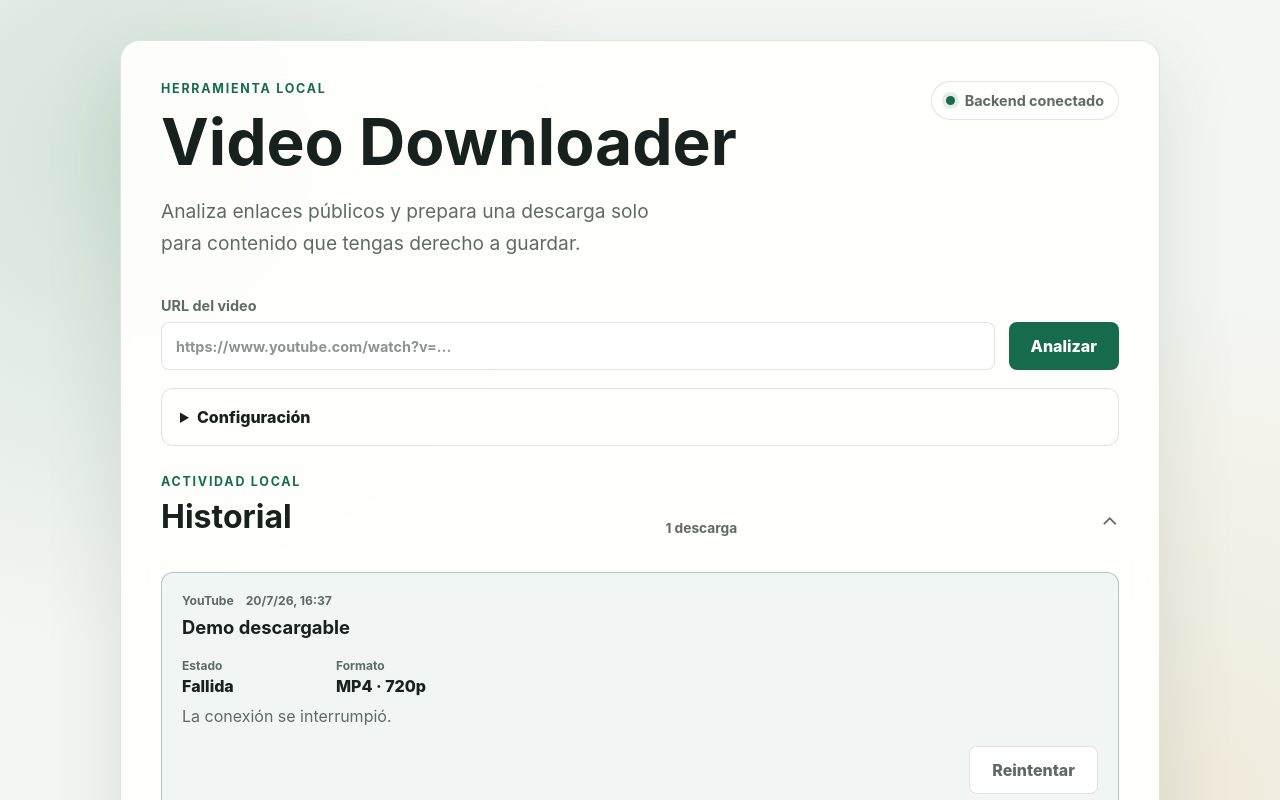
Scenario: App › retries a failed download in the same history entry
The image size is (1280, 800).
Step 1. Click the button "Reintentar" → coordinates (1034, 770), box [969,746,1098,794]
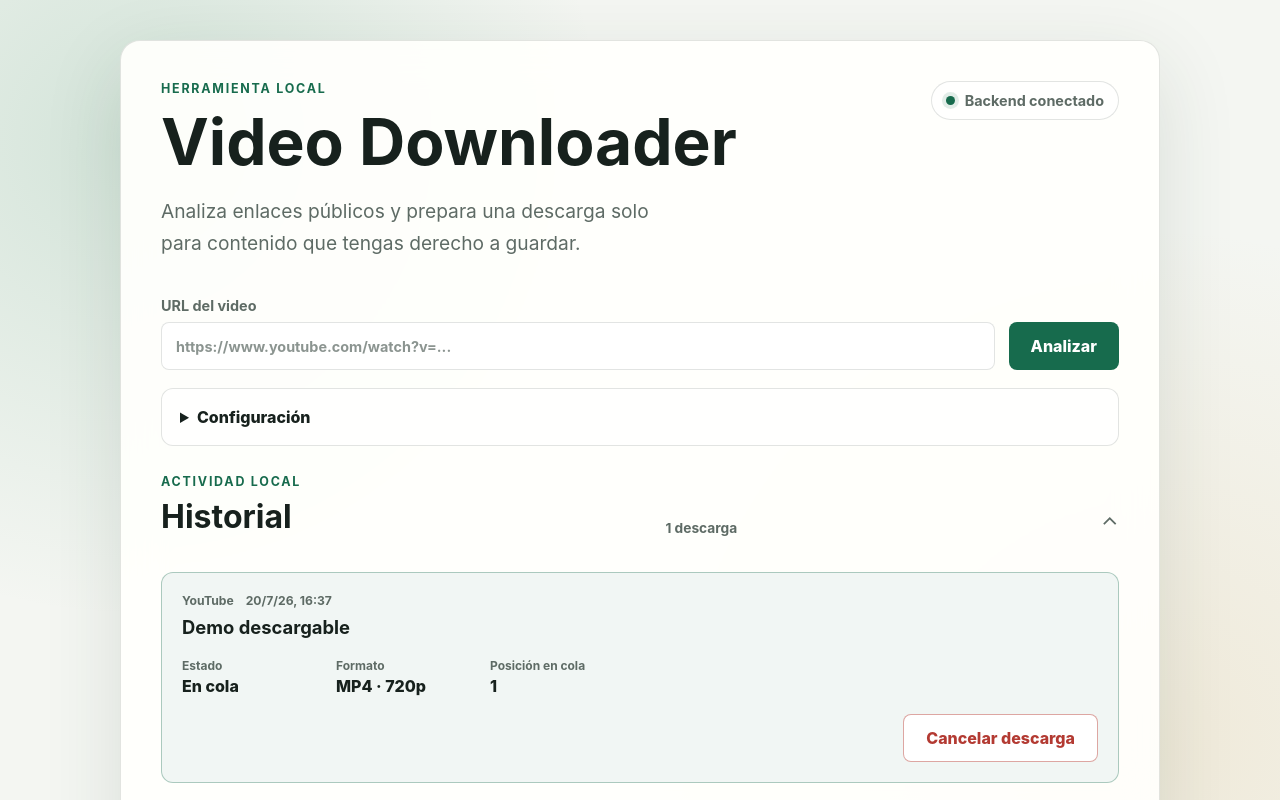
Now the text "En cola" is shown, box [182,676,239,696]
Now the button "Reintentar" is gone
Now the button "Cancelar descarga" is enabled, box [903,714,1098,762]
